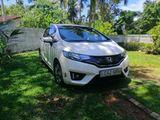car: (36, 21, 131, 91)
